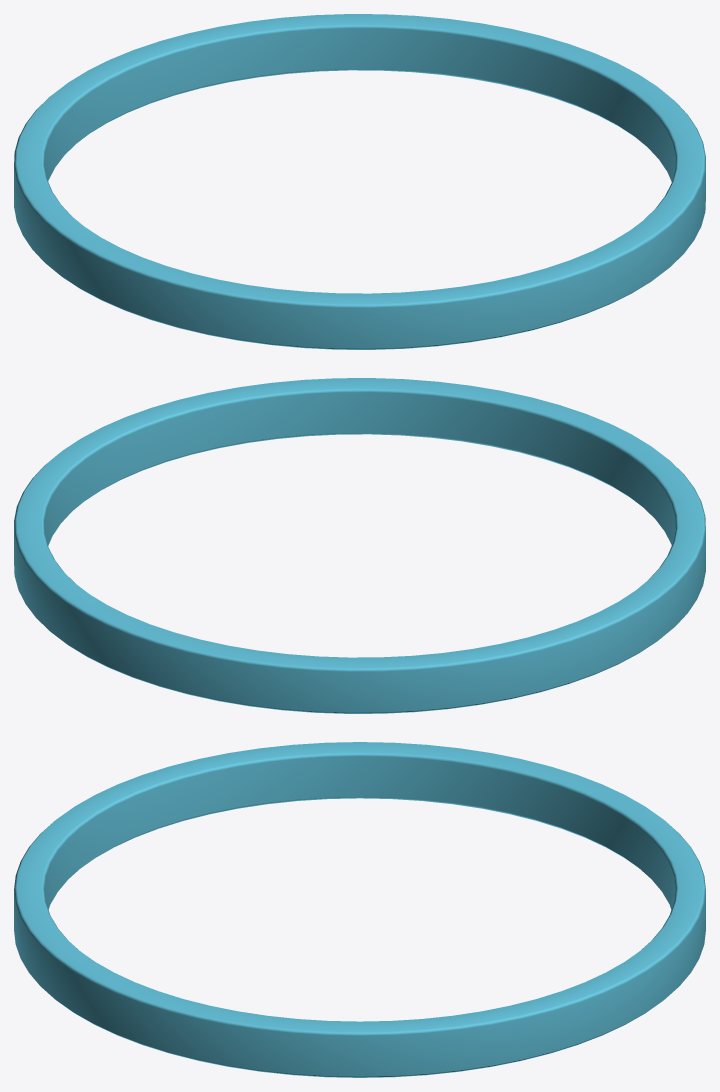
3 renders of one model, top to bottom at view 1: azimuth 30°, elevation 25°; view 2: azimuth 150°, elevation 25°; view 3: azimuth 270°, elevation 25°, orthographic.
Visible parts, largest first — view 1: seal_body; view 2: seal_body; view 3: seal_body.
Boxes of the visible parts, x1,y1,x2,y2 form: seal_body: (14,14,705,349); seal_body: (14,378,705,713); seal_body: (14,742,705,1077).
Bounding box in the file's own units: 0.2159 × 0.0159 × 0.2159.
